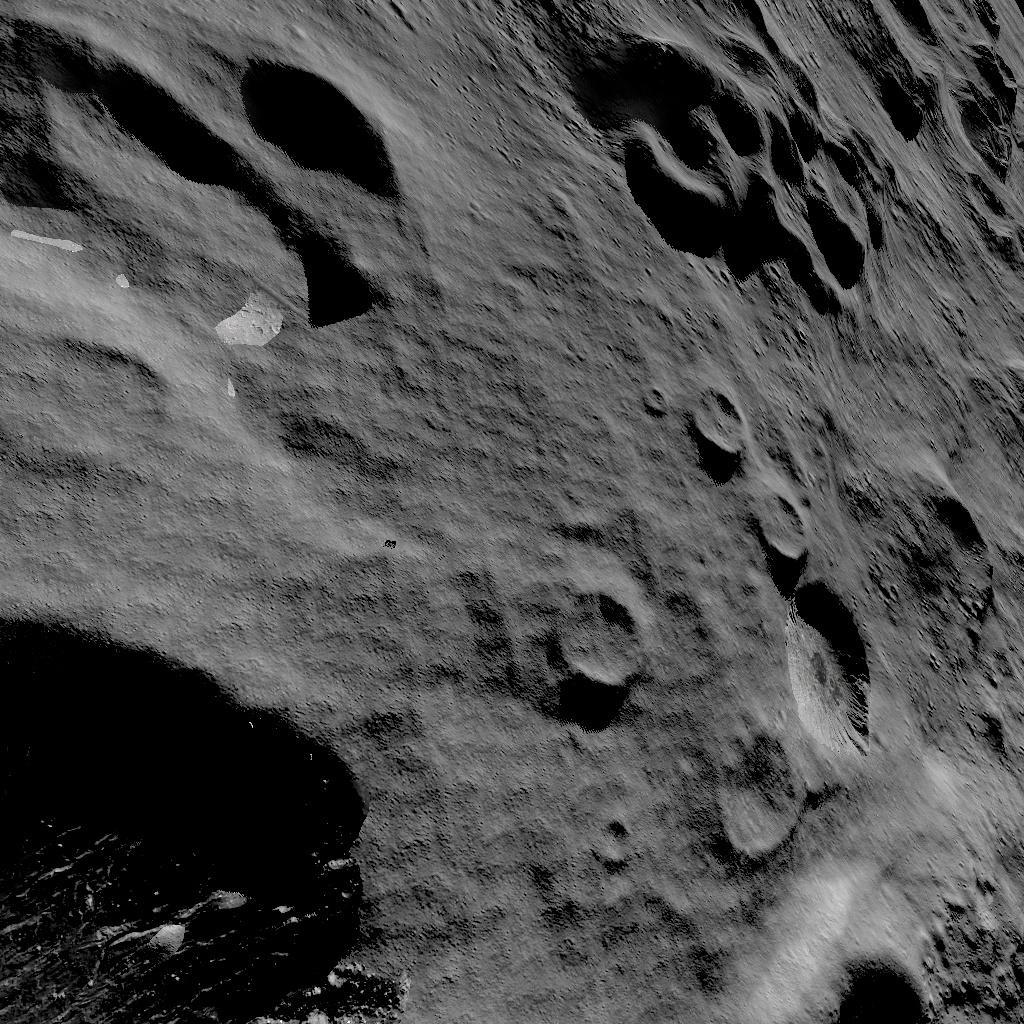Crater: (3, 598, 442, 1022), (0, 19, 429, 337), (596, 0, 1020, 300), (702, 571, 938, 897), (17, 354, 200, 496), (554, 569, 670, 716), (805, 948, 948, 1024), (674, 369, 774, 457), (754, 476, 830, 561)
